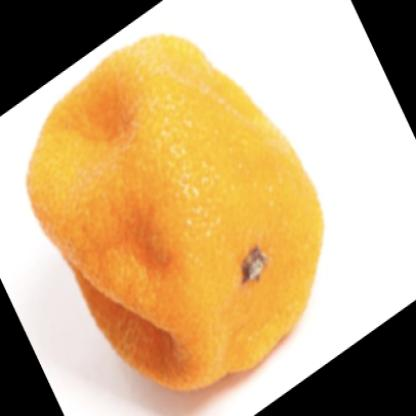rotten: (28, 36, 324, 395)
